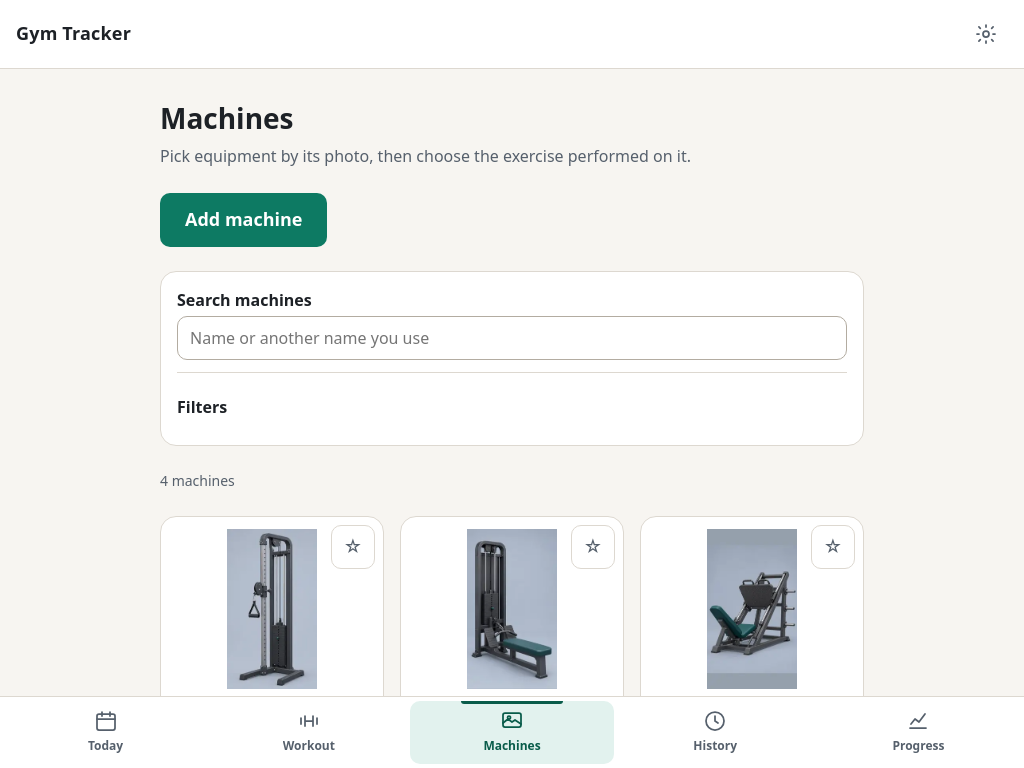
Scenario: the low cable row station › shows the larger photo eagerly with honest alt text
Click the link with aria-label "Open Low cable row station": [512, 623] box x1=413 y1=529 x2=611 y2=717
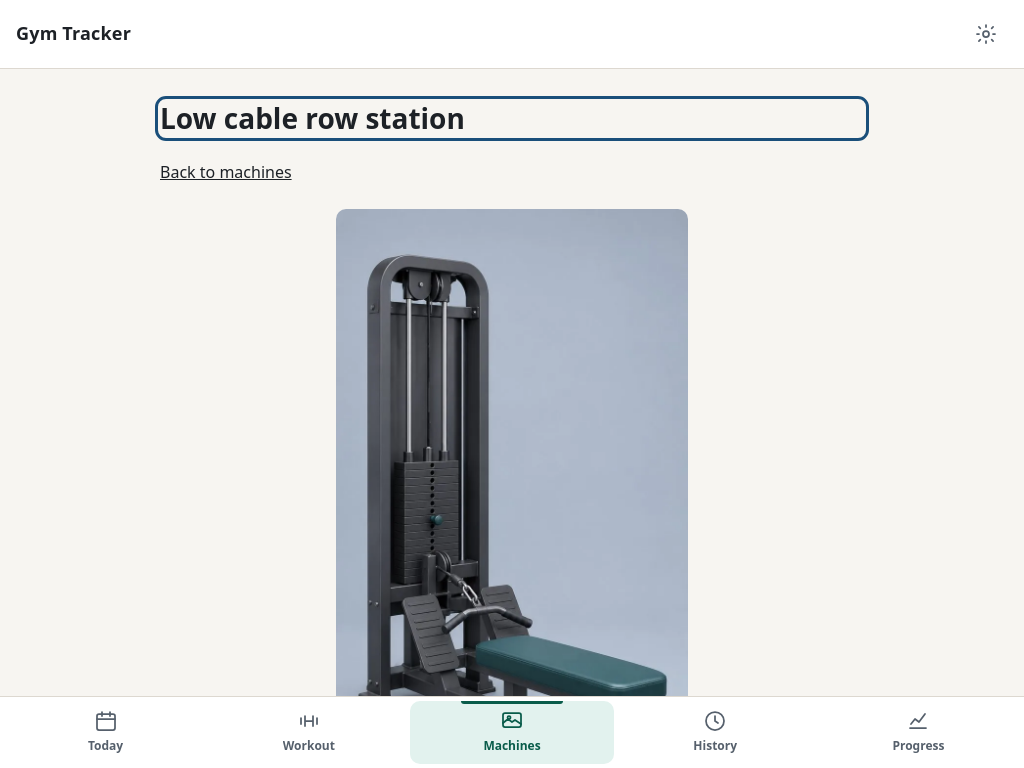
Check: the heading "Low cable row station" is shown, box x1=160 y1=99 x2=465 y2=137
